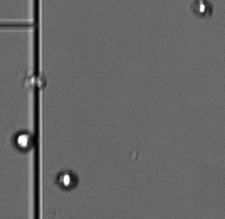Living Cell: (56, 169, 79, 191), (14, 130, 34, 153), (190, 1, 215, 17)
